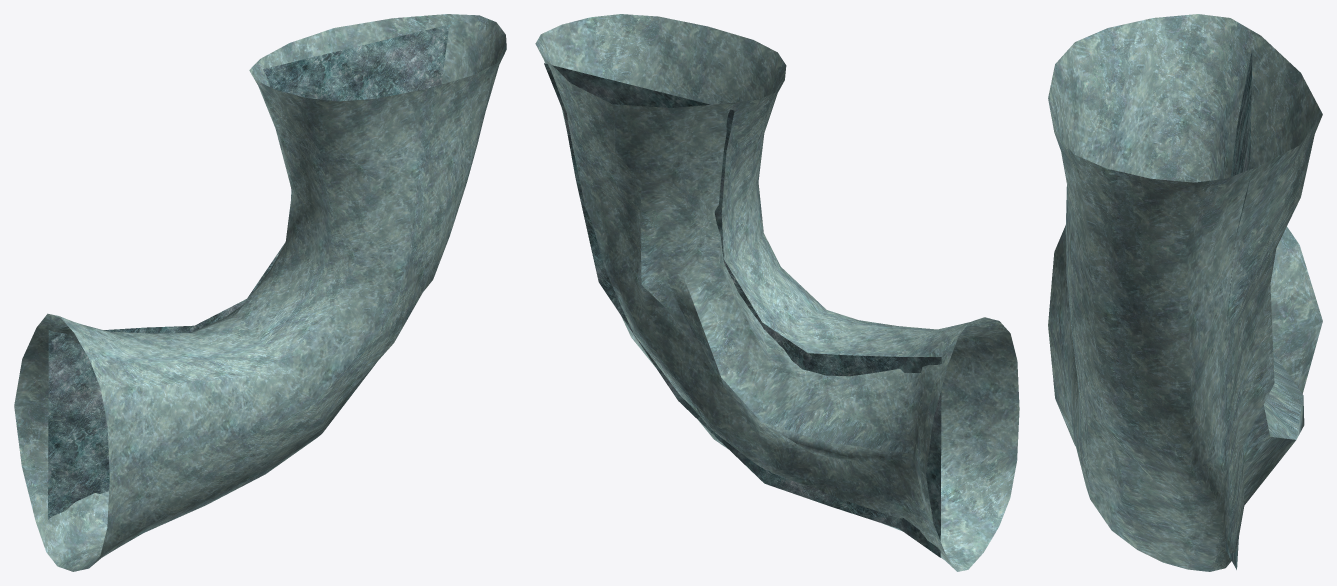
The model's file is rv_mod_tem_tunnel_corner.obj.
The picture shows the model from 3 angles, left to right: view 1: azimuth 30°, elevation 25°; view 2: azimuth 150°, elevation 25°; view 3: azimuth 270°, elevation 25°; orthographic projection. The views are drawn at different scales.
Parts seen in each view (by area): view 1: rv_mod_tem_tunnel_corner; view 2: rv_mod_tem_tunnel_corner; view 3: rv_mod_tem_tunnel_corner.
Part boxes in pixels (box(x1,y1,x2,y2)): rv_mod_tem_tunnel_corner: box(14, 14, 506, 571); rv_mod_tem_tunnel_corner: box(535, 14, 1019, 571); rv_mod_tem_tunnel_corner: box(1048, 14, 1322, 571).
Bounding box in the file's own units: 23.43 × 22.44 × 8.87.
2 materials, 2 textured.
